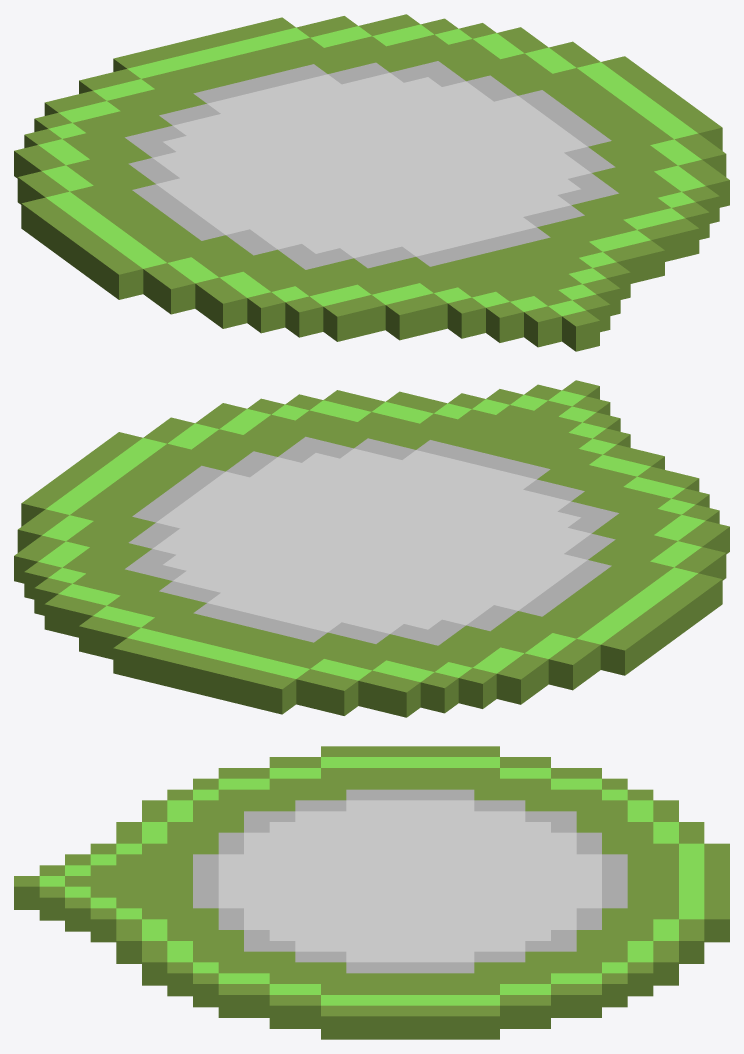
The model's file is powder_pao_pic.fbx.
3 views of the same model, one above another, from view 1: azimuth 30°, elevation 25°; view 2: azimuth 150°, elevation 25°; view 3: azimuth 270°, elevation 25° (orthographic). The views are drawn at different scales.
Visible parts, largest first — view 1: powder_pao_pic:powder_pao_pic; view 2: powder_pao_pic:powder_pao_pic; view 3: powder_pao_pic:powder_pao_pic.
Part boxes in pixels (<box>): powder_pao_pic:powder_pao_pic: <box>14,14,729,351</box>; powder_pao_pic:powder_pao_pic: <box>14,380,729,717</box>; powder_pao_pic:powder_pao_pic: <box>14,746,729,1039</box>.
Bounding box in the file's own units: 25 × 1 × 28.
